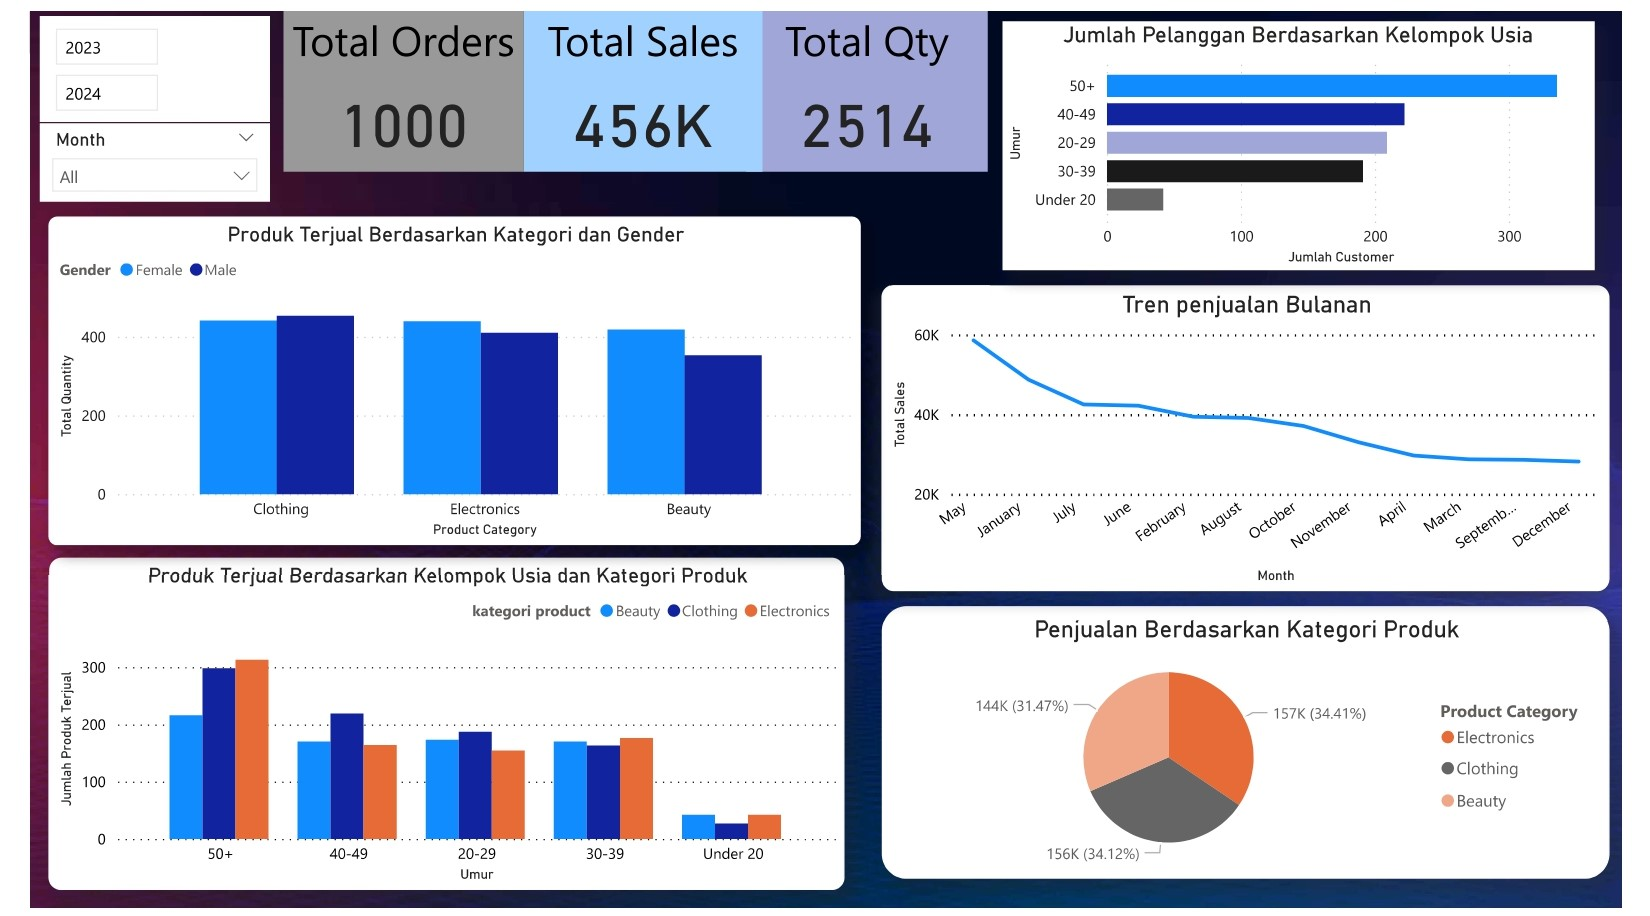

What the dashboard file says about the page in this screenshot:
{"tool":"powerbi","page":{"name":"Page 1","canvas":[1280,720],"ordinal":0},"visuals":[{"type":"card","title":"Total Qty","fields":{"Values":["Sum(cleaned_retail_sales_dataset.Quantity)"]},"box":[576.2,0,193.8,128.8],"z":0},{"type":"card","title":" Total Sales ","fields":{"Values":["Sum(cleaned_retail_sales_dataset.Total Amount)"]},"box":[397.1,0,191.4,128.6],"z":1000},{"type":"card","title":"Total Orders","fields":{"Values":["CountNonNull(cleaned_retail_sales_dataset.Transaction ID)"]},"box":[204.3,0,192.9,128.6],"z":2000},{"type":"pieChart","title":"Penjualan Berdasarkan Kategori Produk","fields":{"Category":["cleaned_retail_sales_dataset.Product Category"],"Y":["Sum(cleaned_retail_sales_dataset.Total Amount)"]},"box":[685,478.3,585,218.3],"z":3000},{"type":"slicer","title":"Tahun","fields":{"Values":["cleaned_retail_sales_dataset.Year"]},"box":[8.3,4.4,184.4,84.4],"z":4000},{"type":"clusteredColumnChart","title":"Produk Terjual Berdasarkan Kelompok Usia dan Kategori Produk","fields":{"Category":["cleaned_retail_sales_dataset.Age Group"],"Y":["Sum(cleaned_retail_sales_dataset.Quantity)"],"Series":["cleaned_retail_sales_dataset.Product Category"]},"box":[15,438.8,640,267.5],"z":5000},{"type":"slicer","fields":{"Values":["cleaned_retail_sales_dataset.Month"]},"box":[8.2,90.5,184.5,62.7],"z":6000},{"type":"lineChart","title":"Tren penjualan Bulanan","fields":{"Y":["Sum(cleaned_retail_sales_dataset.Total Amount)"],"Category":["cleaned_retail_sales_dataset.Month"]},"box":[685,220,585,246.2],"z":7000},{"type":"clusteredColumnChart","title":"Produk Terjual Berdasarkan Kategori dan Gender","fields":{"Category":["cleaned_retail_sales_dataset.Product Category"],"Y":["Sum(cleaned_retail_sales_dataset.Quantity)"],"Series":["cleaned_retail_sales_dataset.Gender"]},"box":[15,165,652.5,263.8],"z":8000},{"type":"clusteredBarChart","title":"Jumlah Pelanggan Berdasarkan Kelompok Usia","fields":{"Category":["cleaned_retail_sales_dataset.Age Group"],"Y":["CountNonNull(cleaned_retail_sales_dataset.Customer ID)"]},"box":[781.7,8.3,476.7,200],"z":9000}]}

Visuals, with their boxes in screenshot pixels (x1, y1, x2, y2), scaled from the page's 1280x720 canvas onto the 1650x916 screenshot:
"Total Qty" card: Rect(743, 0, 993, 164)
" Total Sales " card: Rect(512, 0, 759, 164)
"Total Orders" card: Rect(263, 0, 512, 164)
"Penjualan Berdasarkan Kategori Produk" pieChart: Rect(883, 609, 1637, 886)
"Tahun" slicer: Rect(11, 6, 248, 113)
"Produk Terjual Berdasarkan Kelompok Usia dan Kategori Produk" clusteredColumnChart: Rect(19, 558, 844, 899)
slicer - cleaned_retail_sales_dataset.Month: Rect(11, 115, 248, 195)
"Tren penjualan Bulanan" lineChart: Rect(883, 280, 1637, 593)
"Produk Terjual Berdasarkan Kategori dan Gender" clusteredColumnChart: Rect(19, 210, 860, 546)
"Jumlah Pelanggan Berdasarkan Kelompok Usia" clusteredBarChart: Rect(1008, 11, 1622, 265)
